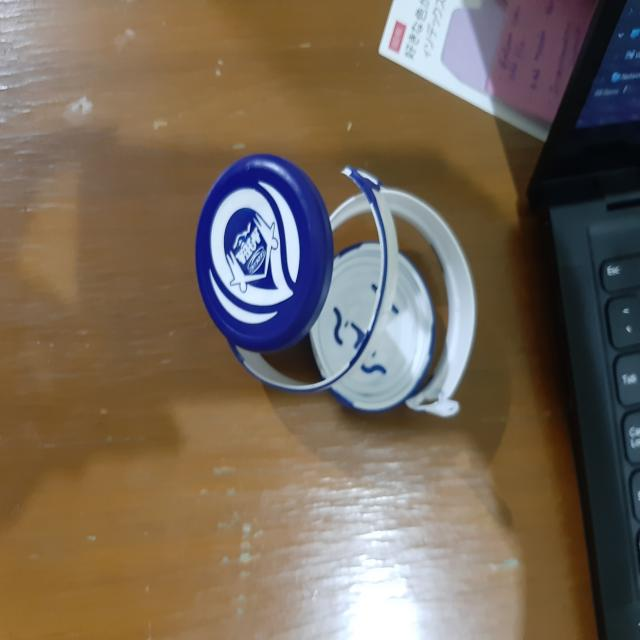TutupGalon: (184, 110, 493, 466)
